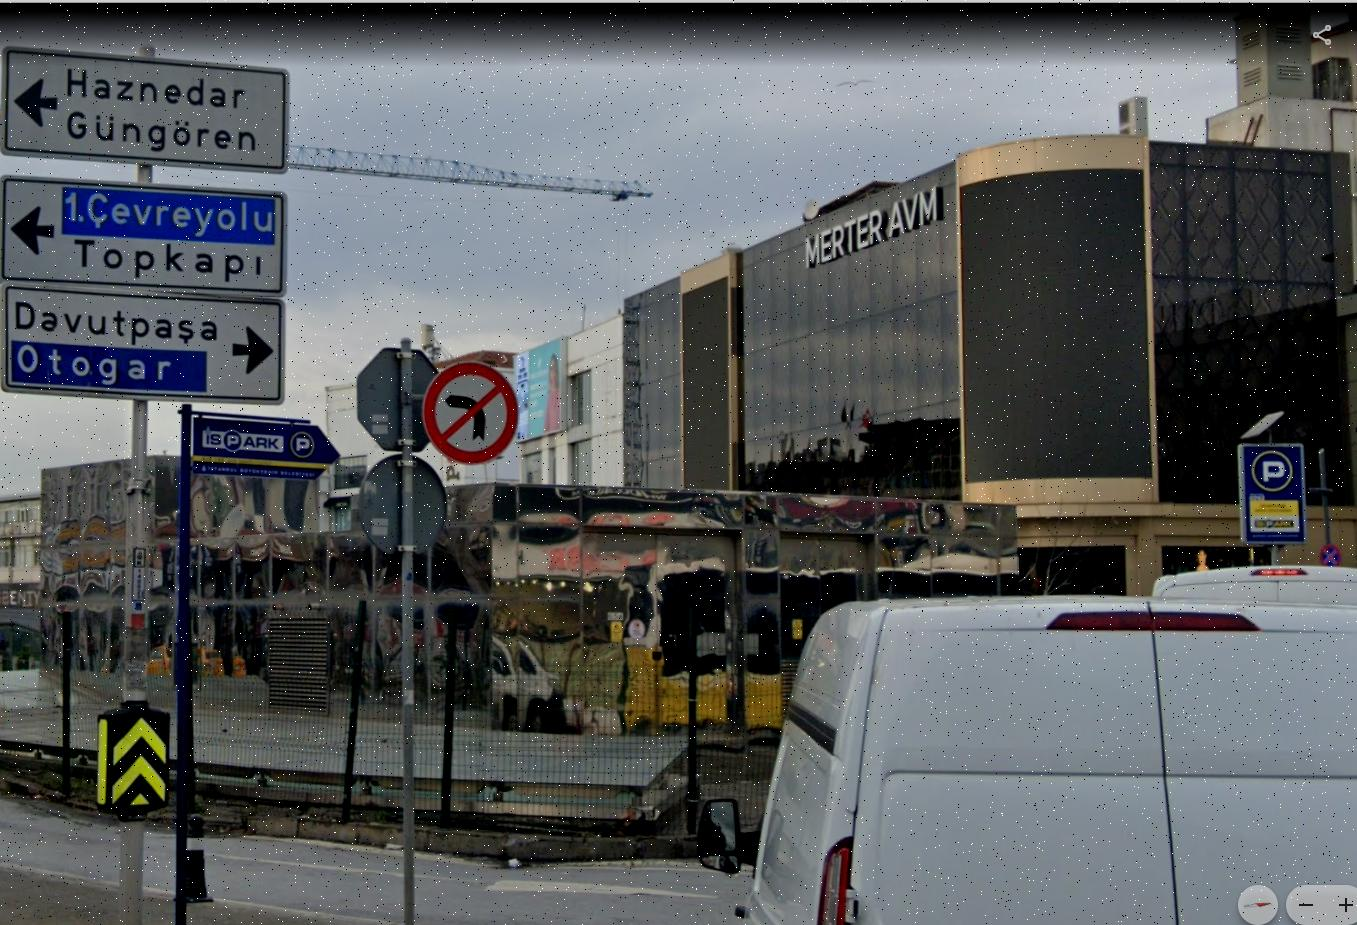leftturnsareforbidden: (424, 360, 519, 457)
